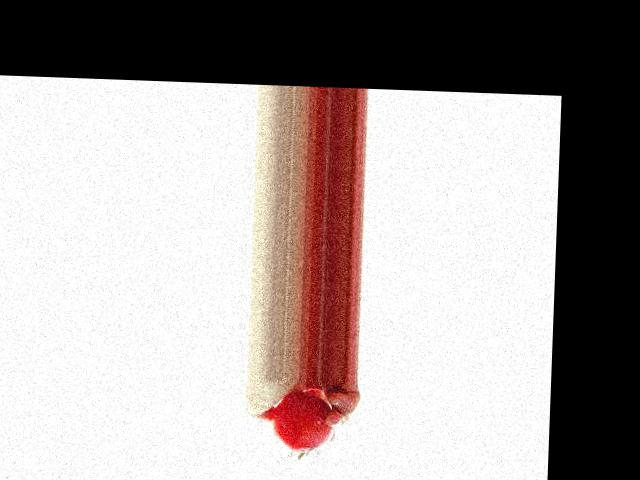tomato: (271, 391, 336, 454)
